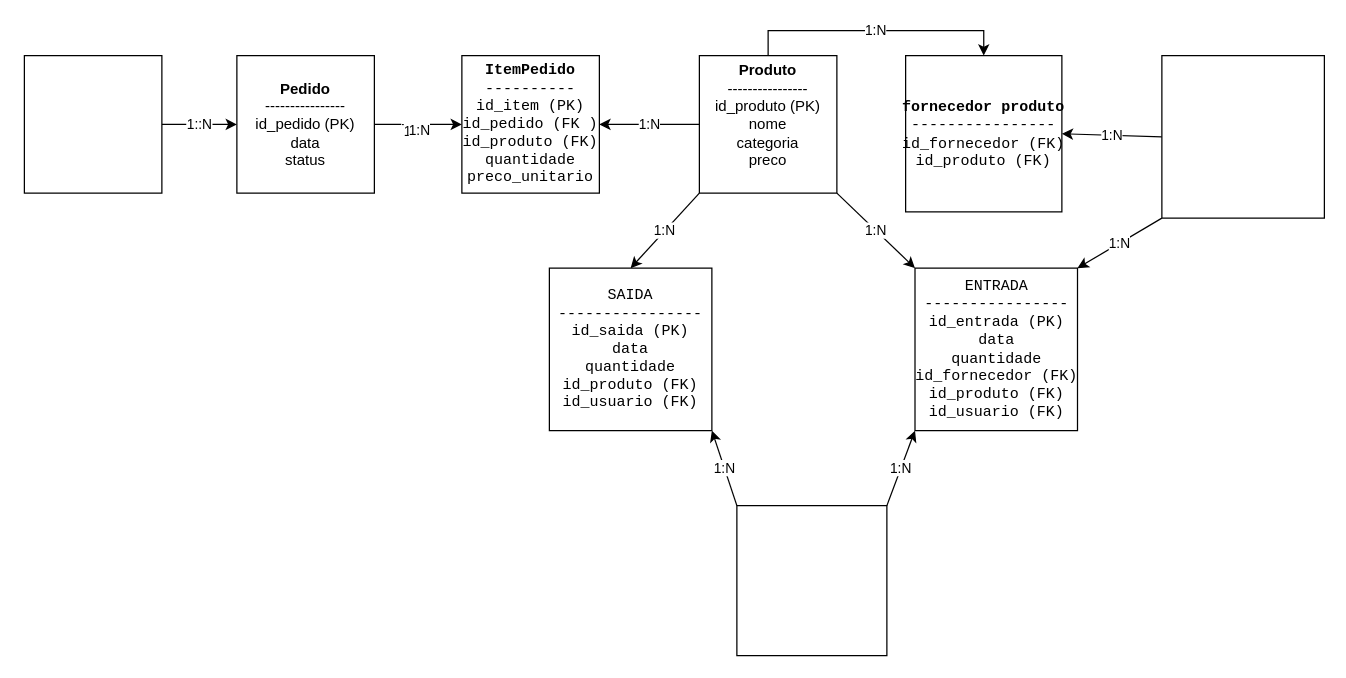
This 1346x678 diagram has some shape labels left out. The centre of each missing label's shape, as x and y in pixels:
"Cliente ---------------- id_cliente (PK) nome telefone" belongs at (92,123).
"Fornecedor ---------------- id_fornecedor (PK) nome cnpj" belongs at (1242,136).
"USUARIO ---------------- id_usuario (PK) nome email senha tipo" belongs at (811,580).
